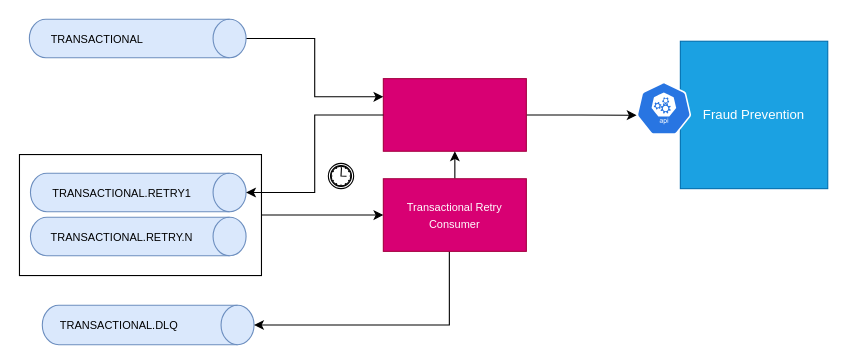
The diagram is 847 pixels wide and 364 high, and some of its shapes have lost their labels. Each missing label, with the centre of its shape:
1 Minuto: the point at 340,175
Transactional Consumer: the point at 454,114
